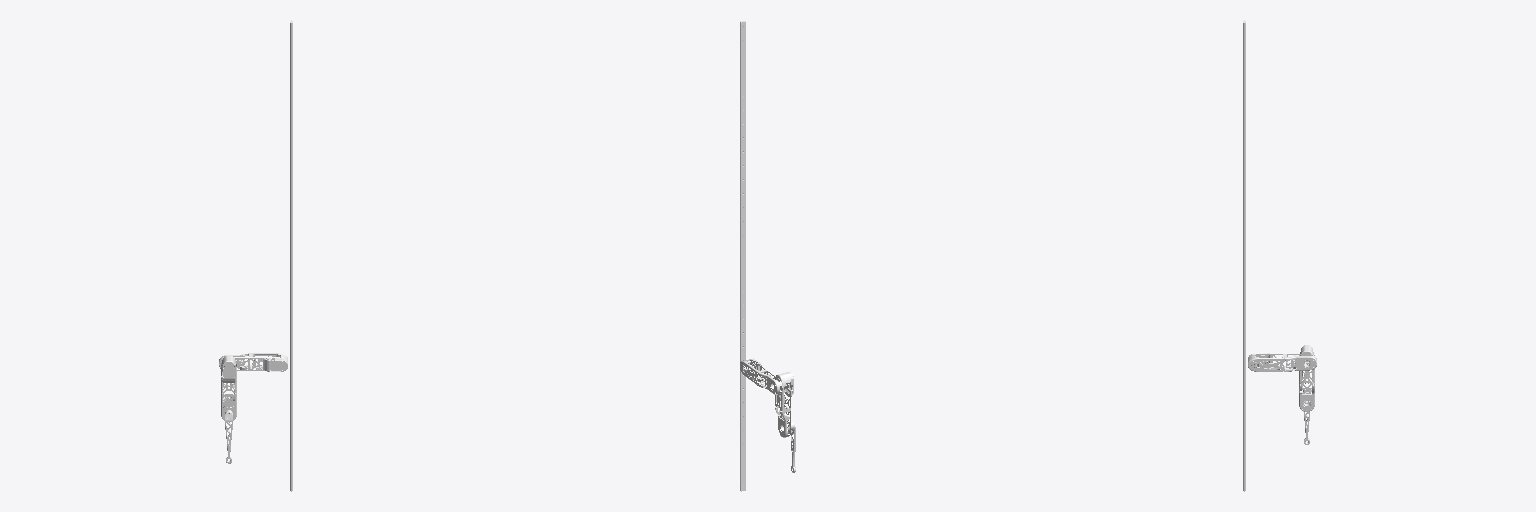
robot.urdf — leg_constrained:
<?xml version="1.0" ?>
<!-- =================================================================================== -->
<!-- |    This document was autogenerated by xacro from leg_constrained.xacro          | -->
<!-- |    EDITING THIS FILE BY HAND IS NOT RECOMMENDED                                 | -->
<!-- =================================================================================== -->
<robot name="leg_constrained">

<mujoco>
  <compiler meshdir="../meshes/" discardvisual="false" fusestatic="false"/>
</mujoco>

  <!-- NEW !!! LEG_CONSTRAINED -->
  <!-- CART MESHES -->
  <material name="black">
    <color rgba="0.0 0.0 0.0 1.0"/>
  </material>
  <material name="blue">
    <color rgba="0.0 0.0 0.8 1.0"/>
  </material>
  <material name="green">
    <color rgba="0.0 0.8 0.0 1.0"/>
  </material>
  <material name="grey">
    <color rgba="0.2 0.2 0.2 1.0"/>
  </material>
  <material name="orange">
    <color rgba="1.0 0.4235294117647059 0.0392156862745098 0.5"/>
  </material>
  <material name="brown">
    <color rgba="0.8705882352941177 0.8117647058823529 0.7647058823529411 1.0"/>
  </material>
  <material name="red">
    <color rgba="0.8 0.0 0.0 1.0"/>
  </material>
  <material name="white">
    <color rgba="1.0 1.0 1.0 1.0"/>
  </material>

  <!-- CART MESHES -->
  <!-- -1) World Link -->
  <link name="world"/>
  <joint name="rootJoint" type="fixed">
    <origin rpy="0. 0. 0." xyz="0. 0. 0."/>
    <parent link="world"/>
    <child link="base_link"/>
  </joint>
  <link name="base_link">
    <visual>
      <material name="white"/>
      <origin rpy="0. 0. -3.141592" xyz="0. 0. 0."/>
      <geometry>
        <mesh filename="cart.stl" scale="0.001 0.001 0.001"/>
      </geometry>
    </visual>
    <inertial>
      <mass value="1e-4"/>
      <inertia ixx="1e-5" ixy="0." ixz="0." iyy="1e-5" iyz="0." izz="1e-5"/>
      <origin rpy="0. 0. 0." xyz="0. 0. 0."/>
    </inertial>
  </link>
  <!-- Joint to fix the leg to the base -->
  <joint name="LH_HAA" type="fixed">
    <parent link="base_link"/>
    <child link="LH_SHOULDER"/>
    <origin rpy="0 3.141592 1.570796" xyz="0.025 0.05 0.5"/>
    <axis xyz="0 0 -1"/>
    <limit effort="50000." lower="0.0" upper="1.0" velocity="10000"/>
  </joint>
  <!-- Shoulder link -->
  <link name="LH_SHOULDER">
    <visual>
      <material name="white"/>
      <geometry>
        <mesh filename="Module_left_hind.stl"/>
      </geometry>
    </visual>
    <collision>
      <origin rpy="0 0 0" xyz="-0.0945 0 0"/>
      <geometry>
        <box size="0.269 0.057 0.060"/>
      </geometry>
    </collision>
    <inertial>
      <mass value="0.47669673"/>
      <origin rpy="0 0 0" xyz="-7.2487360e-02 3.1582591e-02 2.4812434e-03"/>
      <inertia ixx="2.1574269e-04" ixy="3.3437484e-05" ixz="-2.4284668e-06" iyy="3.0607390e-03" iyz="-2.0388977e-06" izz="3.0504273e-03"/>
    </inertial>
  </link>

  <!-- Hip joint -->
  <joint name="LH_HFE" type="revolute">
    <parent link="LH_SHOULDER"/>
    <child link="LH_UPPER_LEG"/>
    <origin rpy="0 1.570796 0" xyz="-0.19 0.044 0"/>
    <axis xyz="0 1 0"/>
    <limit effort="5.0" lower="-3.141592" upper="3.141592" velocity="1000"/>
  </joint>
  <!-- Upper leg link -->
  <link name="LH_UPPER_LEG">
    <visual>
      <material name="white"/>
      <origin rpy="0 0 0" xyz="0 0 0"/>
      <geometry>
        <mesh filename="Module_left_hind.stl"/>
      </geometry>
    </visual>
    <collision>
      <origin rpy="0 0 0" xyz="-0.0945 0.015 0"/>
      <geometry>
        <box size="0.269 0.057 0.060"/>
      </geometry>
    </collision>
    <inertial>
      <mass value="0.47669673"/>
      <origin rpy="0 0 0" xyz="-7.2487360e-02 3.1582591e-02 2.4812434e-03"/>
      <inertia ixx="2.1574269e-04" ixy="3.3437484e-05" ixz="-2.4284668e-06" iyy="3.0607390e-03" iyz="-2.0388977e-06" izz="3.0504273e-03"/>
    </inertial>
  </link>

  <!-- Knee joint -->
  <joint name="LH_KFE" type="revolute">
    <parent link="LH_UPPER_LEG"/>
    <child link="LH_LOWER_LEG"/>
    <origin rpy="0 0 0" xyz="-0.19 0.044 0"/>
    <axis xyz="0 1 0"/>
    <limit effort="5.0" lower="-3.141592" upper="3.141592" velocity="1000"/>
  </joint>
  <!-- Lower leg link -->
  <link name="LH_LOWER_LEG">
    <visual>
      <material name="white"/>
      <origin rpy="0 1.570796 0" xyz="0 0 0"/>
      <geometry>
        <mesh filename="Lower_leg_left.stl"/>
      </geometry>
    </visual>
    <collision>
      <origin rpy="0 1.570796 0" xyz="0 0 0"/>
      <geometry>
        <box size="0.269 0.057 0.060"/>
      </geometry>
    </collision>
    <inertial>
      <mass value="0.046942"/>
      <origin rpy="0 0 0" xyz="-0.0660893 0.0198901 1.552593e-05"/>
      <inertia ixx="5.140780e-06" ixy="-1.089102e-05" ixz="2.46811e-08" iyy="0.0002124295" iyz="-2.702972e-09" izz="0.0002115478"/>
    </inertial>
  </link>
  
  <!-- Normal feet -->
  <joint name="LH_ANKLE" type="fixed">
    <parent link="LH_LOWER_LEG"/>
    <child link="LH_FOOT"/>
    <origin rpy="0 0 0" xyz="-0.19 0.028 0"/>
  </joint>
  <!-- FOOT LINK -->
  <link name="LH_FOOT">
  </link>
</robot>

--- Facts derived from the render (not from the file) ---
3 views of the same robot in one strip: view 1: azimuth 90°, elevation 25°; view 2: azimuth 210°, elevation 25°; view 3: azimuth 270°, elevation 25° (orthographic).
Model leg_constrained with 6 links and 5 joints (2 revolute, 3 fixed), rooted at world, posed every joint at zero.
Visible links, largest first — view 1: base_link, LH_SHOULDER, LH_UPPER_LEG; view 2: base_link, LH_UPPER_LEG, LH_SHOULDER; view 3: base_link, LH_SHOULDER, LH_UPPER_LEG.
Boxes of the visible links, left/top/right/bottom form: base_link: left=290, top=20, right=292, bottom=491; LH_SHOULDER: left=219, top=353, right=287, bottom=371; LH_UPPER_LEG: left=221, top=356, right=236, bottom=422; base_link: left=740, top=21, right=745, bottom=491; LH_UPPER_LEG: left=775, top=372, right=793, bottom=437; LH_SHOULDER: left=740, top=358, right=782, bottom=394; base_link: left=1243, top=20, right=1245, bottom=491; LH_SHOULDER: left=1248, top=353, right=1316, bottom=371; LH_UPPER_LEG: left=1299, top=345, right=1314, bottom=411.
Bounding box of the posed robot: 0.1206 × 0.2913 × 2.02 m (x, y, z).
Meshes: 3 distinct files referenced, 4 mesh visuals loaded (3 binary STL).
